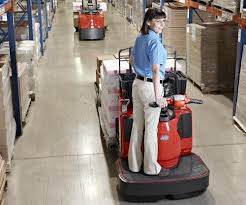Pallet Jack: (94, 43, 211, 202)
